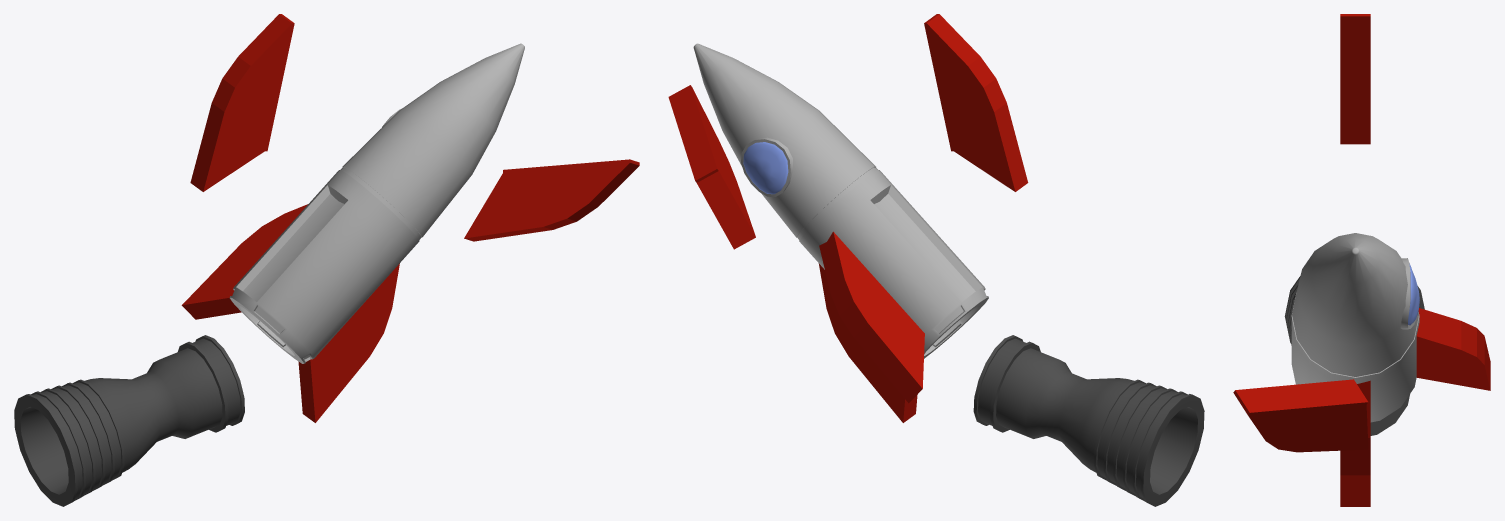
File: CrashedRocket.fbx
3 views of the same model, side by side, from view 1: azimuth 30°, elevation 25°; view 2: azimuth 150°, elevation 25°; view 3: azimuth 270°, elevation 25° (orthographic). The views are drawn at different scales.
Visible parts, largest first — view 1: Cylinder, Cylinder.001, Cube.001, Cube.002, Cube.003; view 2: Cylinder, Cylinder.001, Cube.001, Cube.002, Cube.003, Sphere; view 3: Cylinder, Cube.003, Cube.001, Cube.002, Cylinder.001, Sphere.
Boxes of the visible parts, x1=… form: Cylinder: x1=229, y1=43, x2=524, y2=363; Cylinder.001: x1=14, y1=335, x2=244, y2=506; Cube.001: x1=181, y1=204, x2=399, y2=422; Cube.002: x1=190, y1=14, x2=294, y2=191; Cube.003: x1=464, y1=159, x2=639, y2=241; Cylinder: x1=693, y1=43, x2=988, y2=358; Cylinder.001: x1=973, y1=335, x2=1204, y2=506; Cube.001: x1=818, y1=231, x2=924, y2=422; Cube.002: x1=924, y1=14, x2=1028, y2=191; Cube.003: x1=668, y1=85, x2=755, y2=249; Sphere: x1=741, y1=137, x2=792, y2=196; Cylinder: x1=1291, y1=233, x2=1419, y2=422; Cube.003: x1=1233, y1=379, x2=1368, y2=452; Cube.001: x1=1340, y1=308, x2=1490, y2=506; Cube.002: x1=1340, y1=14, x2=1370, y2=144; Cylinder.001: x1=1284, y1=276, x2=1424, y2=435; Sphere: x1=1400, y1=258, x2=1419, y2=329.
Size of the model in its own units: 423 by 309 by 143.
